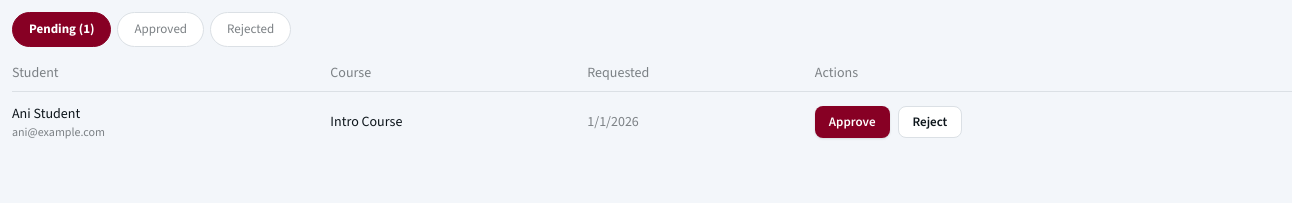
Test: ParishJoinRequestsManager › shows an error when approval fails
Click the button "Approve": x=852, y=122 [815, 106, 890, 138]
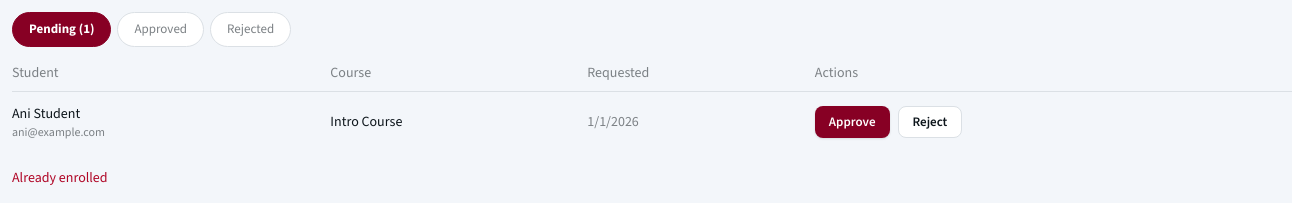
Check: the text "Already enrolled" is shown, box [12, 168, 108, 187]
